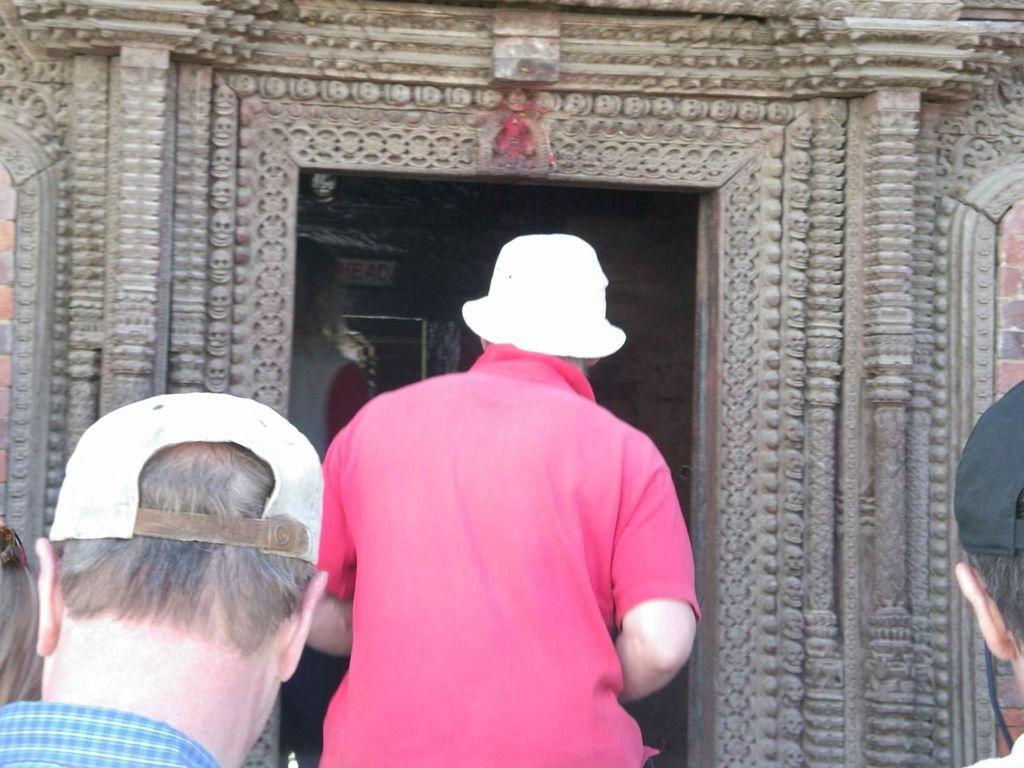Hat: (48, 390, 317, 563), (460, 230, 624, 356), (950, 382, 1022, 546)
